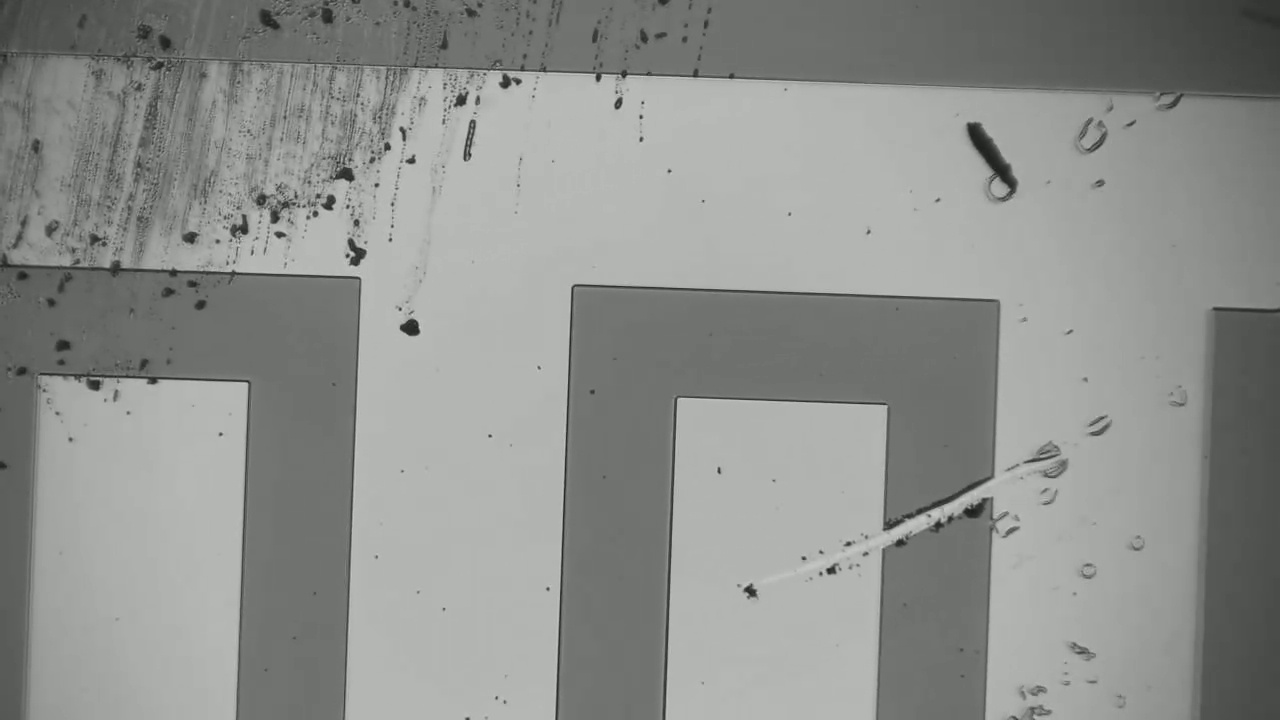Short_circuit: (844, 445, 1026, 582)
